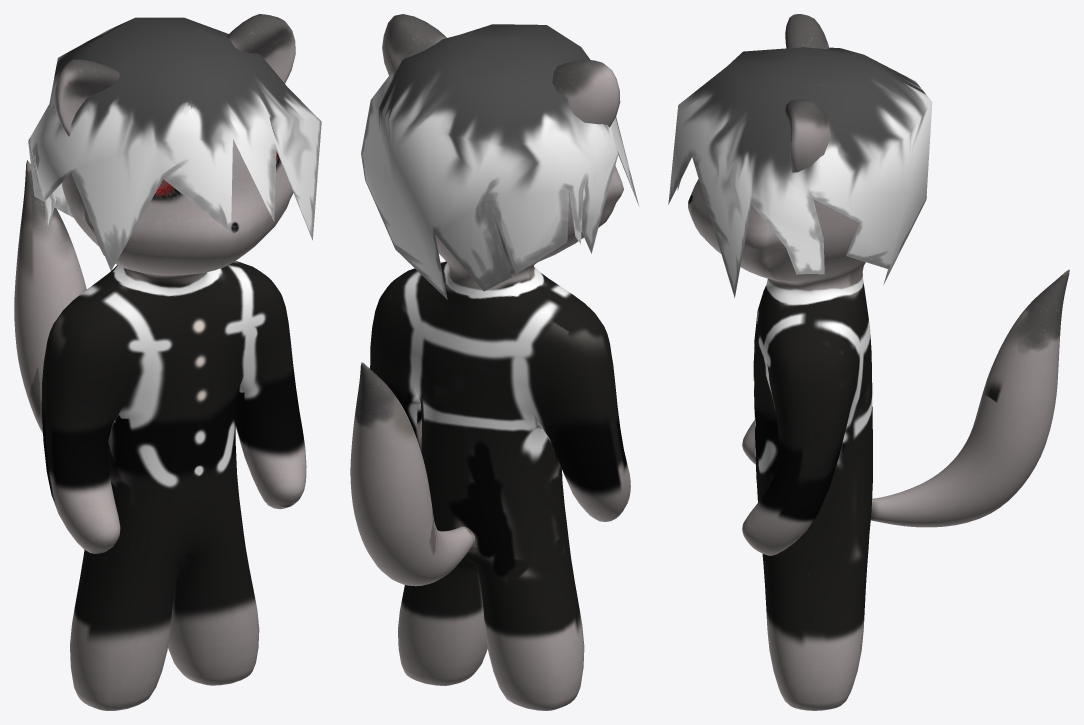
File: zxcursed123.fbx
3 views of the same model, side by side, from view 1: azimuth 30°, elevation 25°; view 2: azimuth 150°, elevation 25°; view 3: azimuth 270°, elevation 25° (orthographic). The views are drawn at different scales.
Visible parts, largest first — view 1: Cube.002, Cube.005; view 2: Cube.002, Cube.005; view 3: Cube.002, Cube.005.
Boxes of the visible parts, box(x1,y1,x2,y2) form: Cube.002: box(14, 14, 306, 710); Cube.005: box(28, 17, 321, 270); Cube.002: box(350, 14, 630, 710); Cube.005: box(361, 24, 639, 299); Cube.002: box(688, 14, 1069, 710); Cube.005: box(668, 47, 932, 297).
Bounding box in the file's own units: 288 × 412 × 702.
